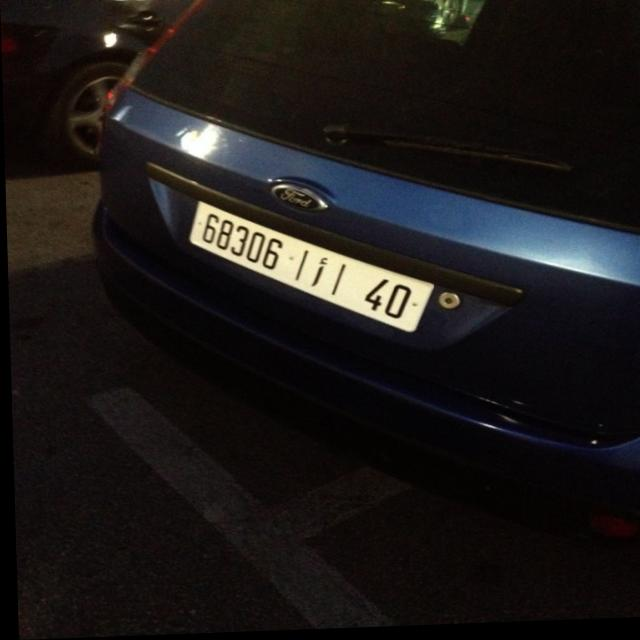License-Plate: (187, 203, 432, 335)
